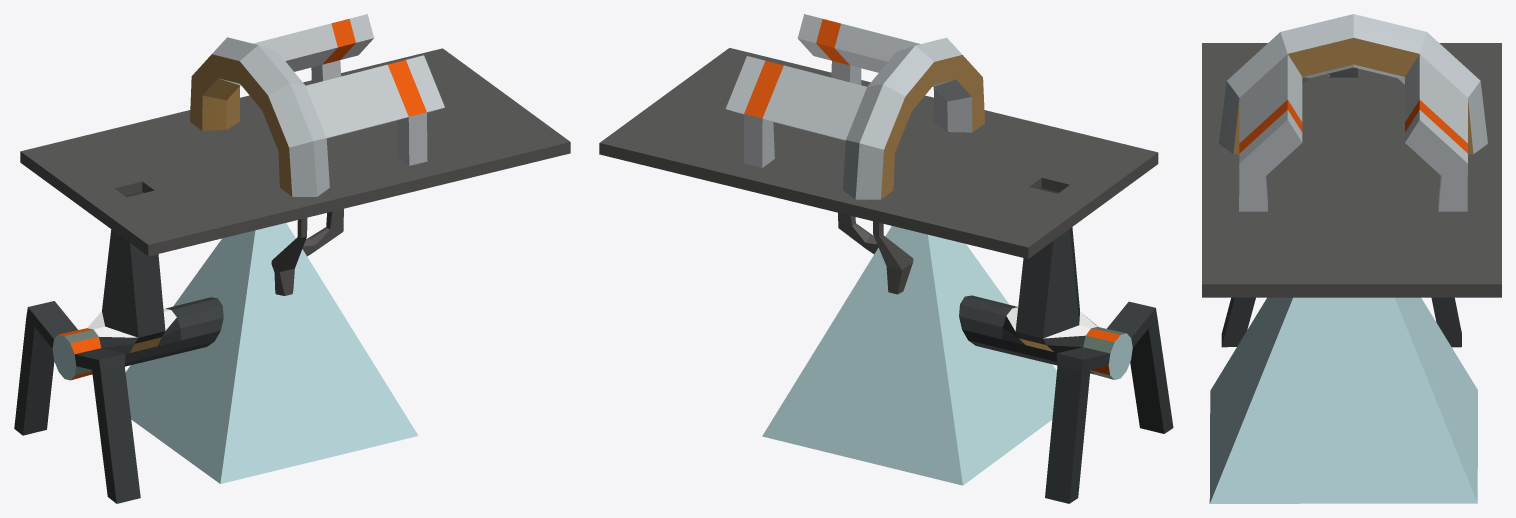
Rendered from house_4.fbx.
The picture shows the model from 3 angles, left to right: view 1: azimuth 30°, elevation 25°; view 2: azimuth 150°, elevation 25°; view 3: azimuth 270°, elevation 25°; orthographic projection. The views are drawn at different scales.
Visible parts, largest first — view 1: Cube.001, Cone, Torus, Cylinder, Cube; view 2: Cube.001, Cone, Torus, Cylinder, Cube; view 3: Cube.001, Cone, Torus, Cylinder.
Boxes of the visible parts, x1,y1,x2,y2 form: Cube.001: [20, 48, 570, 256]; Cone: [125, 223, 418, 483]; Torus: [190, 14, 444, 196]; Cylinder: [14, 191, 223, 503]; Cube: [271, 209, 343, 295]; Cube.001: [599, 48, 1158, 258]; Cone: [762, 226, 1056, 485]; Torus: [725, 14, 984, 199]; Cylinder: [959, 188, 1173, 503]; Cube: [838, 212, 913, 294]; Cube.001: [1202, 43, 1501, 297]; Cone: [1209, 297, 1477, 503]; Torus: [1219, 14, 1487, 211]; Cylinder: [1221, 73, 1461, 347].
Size of the model in its own units: 180 by 143 by 89.46.
